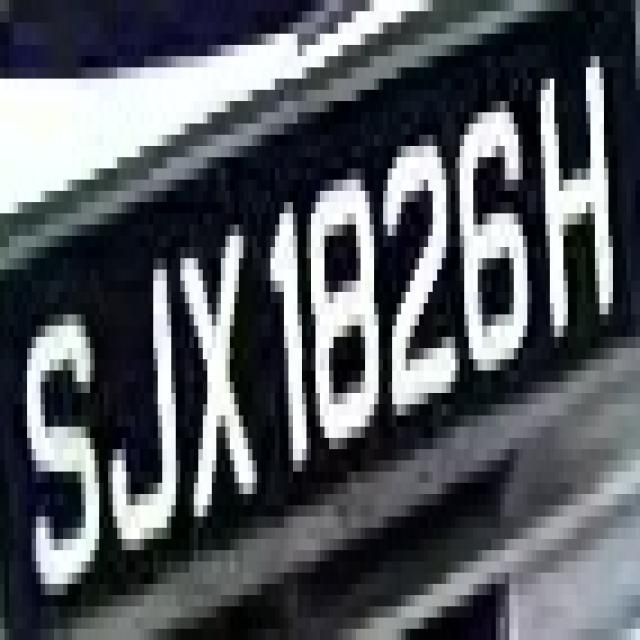1: (270, 168, 324, 494)
2: (370, 112, 455, 427)
6: (447, 56, 528, 382)
8: (298, 168, 383, 438)
H: (532, 45, 622, 359)
J: (99, 235, 180, 572)
S: (18, 292, 108, 617)
X: (167, 157, 261, 528)
